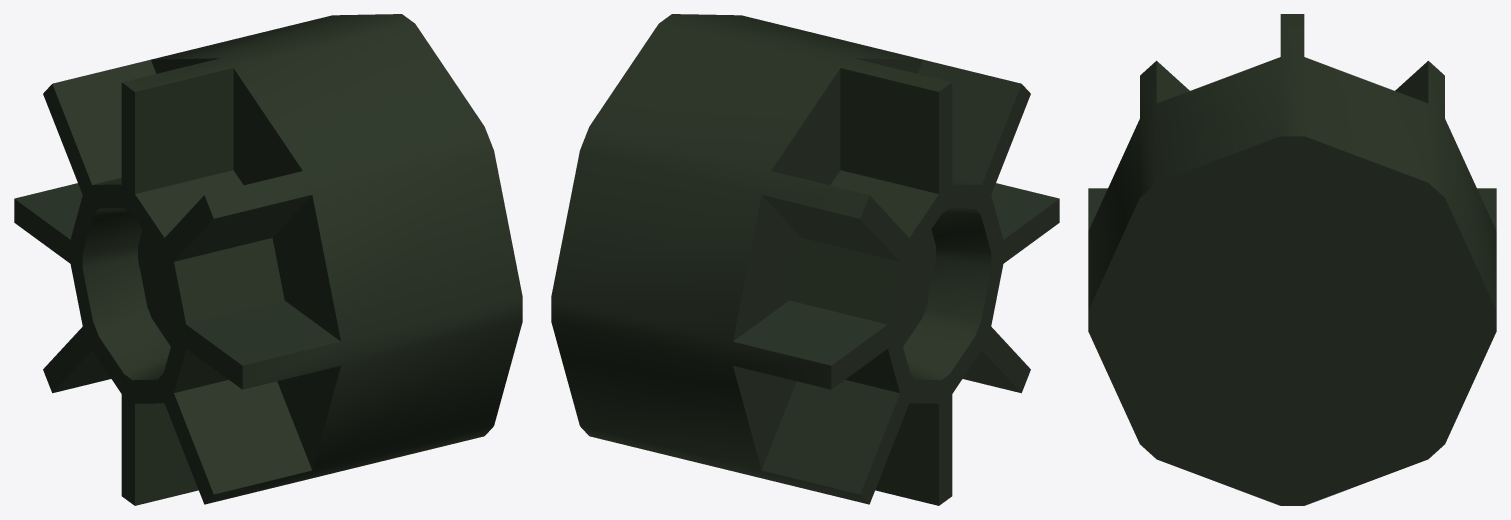
Rendered from JIM_framhjul_L_renamed1.obj.
3 views of the same model, side by side, from view 1: azimuth 30°, elevation 25°; view 2: azimuth 150°, elevation 25°; view 3: azimuth 270°, elevation 25° (orthographic). The views are drawn at different scales.
Parts seen in each view (by area): view 1: submesh0; view 2: submesh0; view 3: submesh0.
Part boxes in pixels (box(x1,y1,x2,y2)): submesh0: box(14, 14, 522, 505); submesh0: box(551, 14, 1059, 505); submesh0: box(1088, 14, 1496, 505).
Size of the model in its own units: 0.2325 by 0.328 by 0.328.
1 material, 1 textured.
